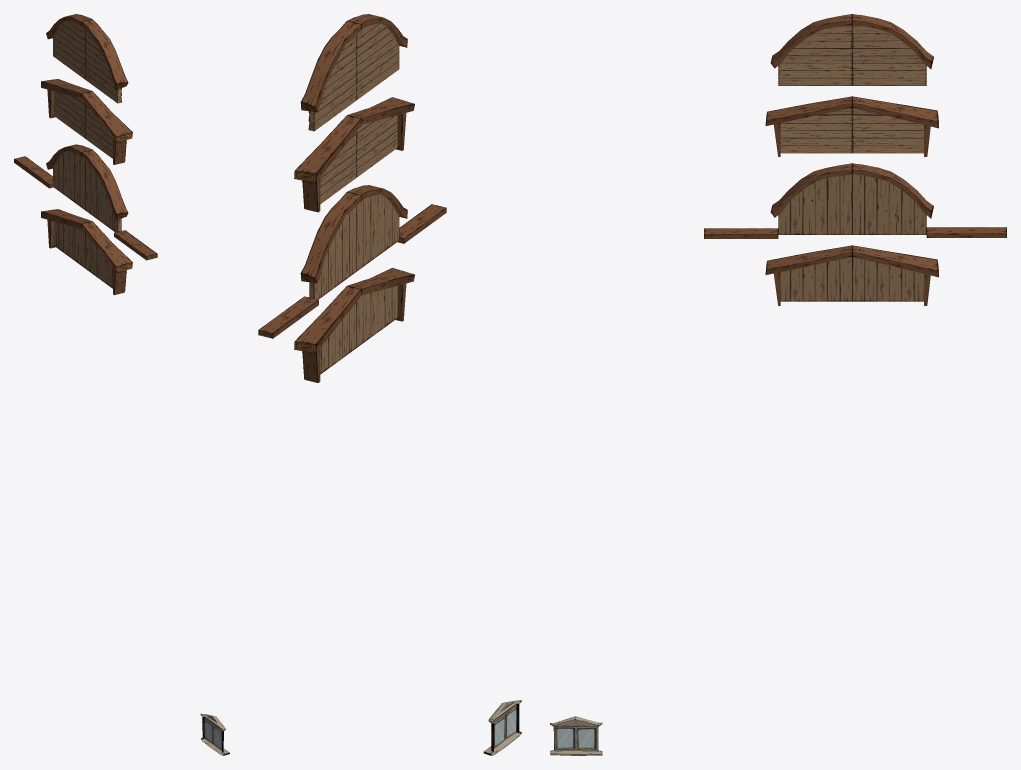
File: okno5 i fasady.fbx
3 renders of one model, left to right at view 1: azimuth 30°, elevation 25°; view 2: azimuth 150°, elevation 25°; view 3: azimuth 270°, elevation 25°, orthographic. The views are drawn at different scales.
Parts seen in each view (by area): view 1: Fasada drewniane deski poziome2, Fasada drewniane deski poziome2.002, Fasada Saloon dechy1, Fasada drewniane deski poziome1, Okno5, Drewno seam1 1, Drewno seam1 1+; view 2: Fasada drewniane deski poziome2.002, Fasada drewniane deski poziome2, Fasada Saloon dechy1, Fasada drewniane deski poziome1, Okno5, Drewno seam1 1+, Drewno seam1 1; view 3: Fasada drewniane deski poziome2.002, Fasada drewniane deski poziome2, Fasada Saloon dechy1, Fasada drewniane deski poziome1, Okno5, Drewno seam1 1+, Drewno seam1 1.
Part boxes in pixels (bbox=[...]): Fasada drewniane deski poziome2: bbox=[46, 144, 128, 232]; Fasada drewniane deski poziome2.002: bbox=[46, 14, 128, 103]; Fasada Saloon dechy1: bbox=[41, 79, 132, 164]; Fasada drewniane deski poziome1: bbox=[41, 209, 132, 295]; Okno5: bbox=[200, 713, 229, 755]; Drewno seam1 1: bbox=[114, 230, 157, 260]; Drewno seam1 1+: bbox=[14, 156, 53, 188]; Fasada drewniane deski poziome2.002: bbox=[300, 14, 407, 131]; Fasada drewniane deski poziome2: bbox=[300, 185, 407, 299]; Fasada Saloon dechy1: bbox=[294, 97, 414, 212]; Fasada drewniane deski poziome1: bbox=[294, 268, 414, 382]; Okno5: bbox=[483, 700, 521, 755]; Drewno seam1 1+: bbox=[258, 296, 318, 338]; Drewno seam1 1: bbox=[397, 204, 446, 243]; Fasada drewniane deski poziome2.002: bbox=[770, 14, 933, 85]; Fasada drewniane deski poziome2: bbox=[770, 163, 933, 234]; Fasada Saloon dechy1: bbox=[765, 96, 938, 156]; Fasada drewniane deski poziome1: bbox=[765, 245, 938, 305]; Okno5: bbox=[550, 716, 602, 755]; Drewno seam1 1+: bbox=[926, 227, 1006, 237]; Drewno seam1 1: bbox=[704, 228, 778, 238].
Size of the model in its own units: 106 by 3277 by 1847.
